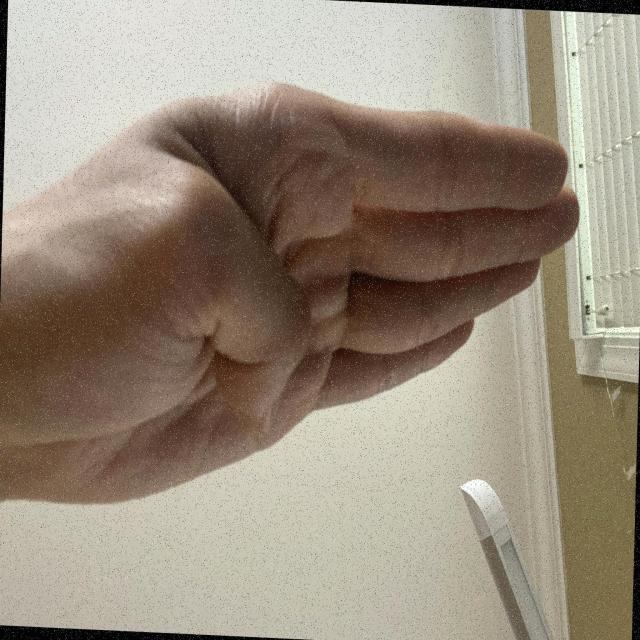B: (209, 69, 566, 640)
